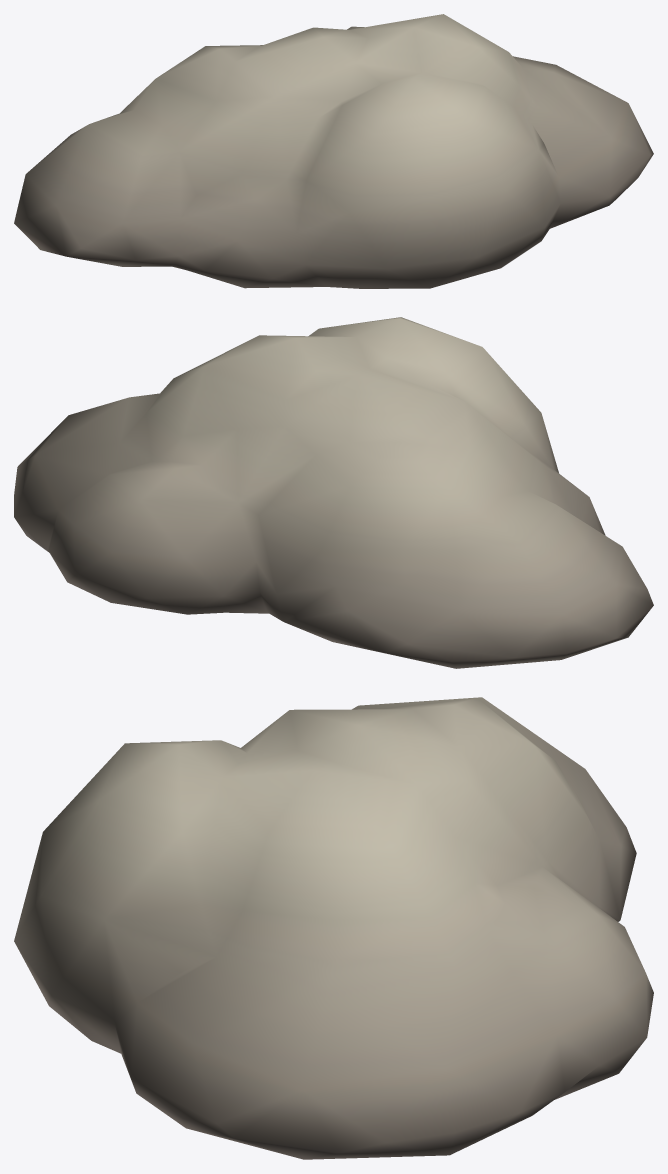
Rendered from SM_Cloud_01.fbx.
3 views of the same model, one above another, from view 1: azimuth 30°, elevation 25°; view 2: azimuth 150°, elevation 25°; view 3: azimuth 270°, elevation 25° (orthographic). The views are drawn at different scales.
Visible parts, largest first — view 1: SM_Cloud_01; view 2: SM_Cloud_01; view 3: SM_Cloud_01.
Part boxes in pixels (x1,y1,x2,y2): SM_Cloud_01: (14, 14, 653, 288); SM_Cloud_01: (14, 317, 653, 668); SM_Cloud_01: (14, 697, 653, 1159).
Bounding box in the file's own units: 7.48 × 2.29 × 5.14.
